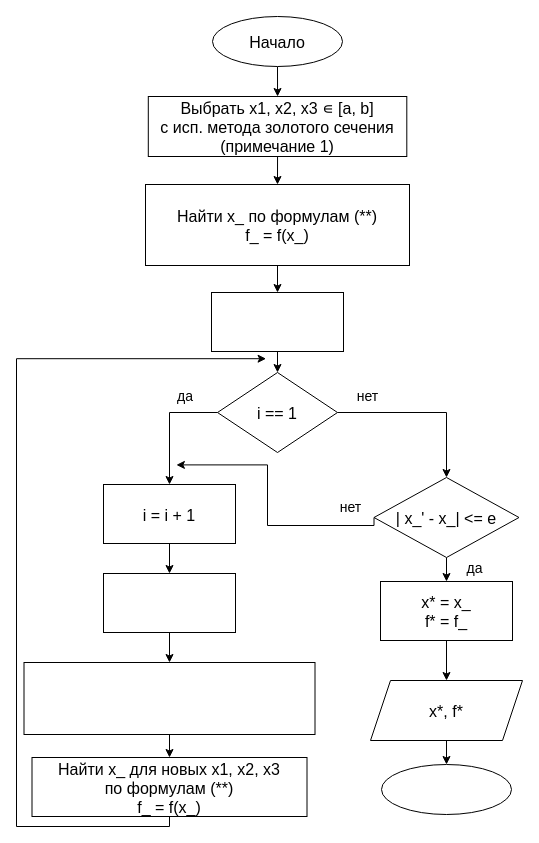
Image size: 539x843. Some labels were removed from this diagram. Each missing label, with the box of its shape:
i = 1: (210, 292, 344, 352)
x_' = x_: (102, 572, 236, 632)
Выбрать новые x1, x2, x3 с исп. метода исключения отрезков (примечание 2): (23, 662, 315, 734)
Конец: (380, 764, 512, 814)
